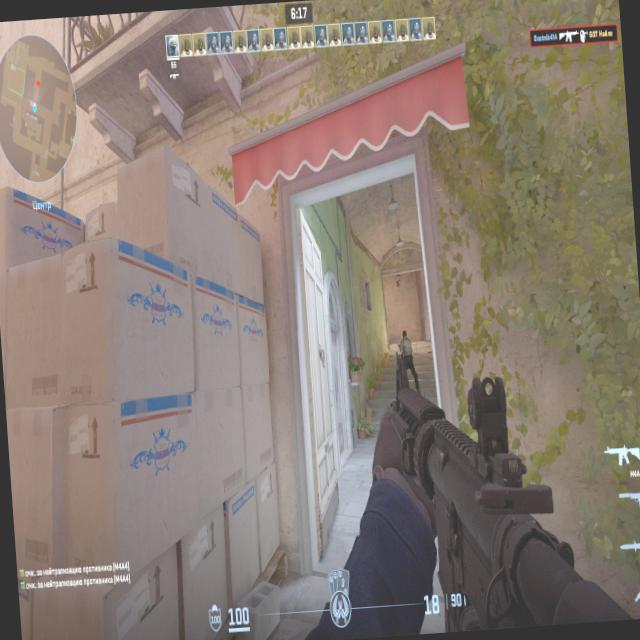T: (402, 331, 413, 364)
T_heat: (404, 336, 407, 342)
